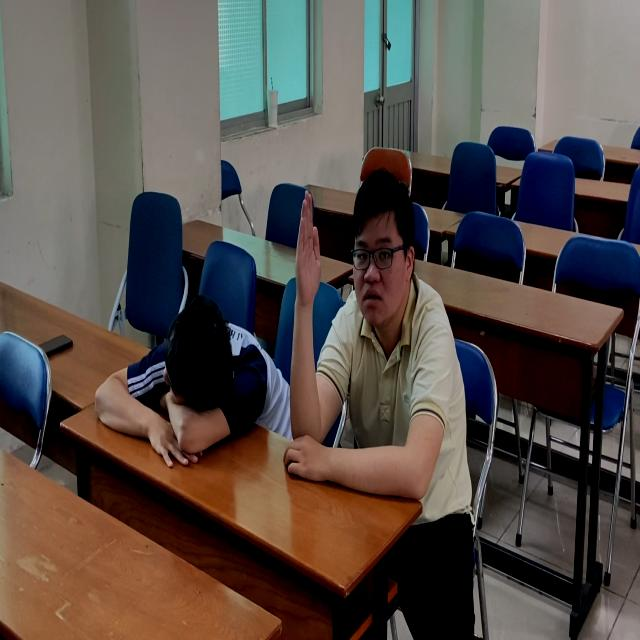raise_hand: (285, 165, 476, 506)
sleep: (81, 285, 288, 461)
